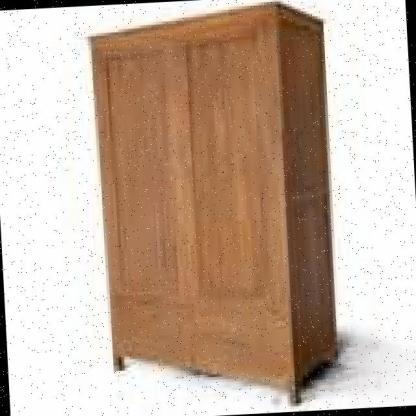Closet: (84, 0, 356, 416)
